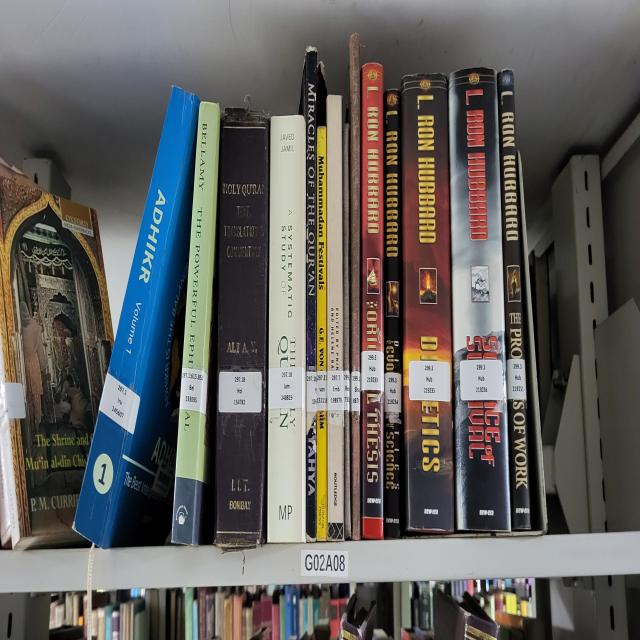Book: (74, 87, 199, 549), (449, 68, 511, 533), (214, 108, 270, 547), (401, 73, 454, 533), (171, 103, 220, 544), (268, 116, 305, 544), (498, 70, 530, 530), (361, 62, 384, 538), (300, 46, 318, 541), (384, 89, 402, 538), (326, 95, 344, 541), (349, 32, 361, 541), (316, 127, 328, 541), (342, 124, 351, 538)
Label: (99, 373, 140, 433), (219, 371, 261, 414), (409, 360, 451, 403), (460, 360, 505, 400), (269, 368, 302, 409), (180, 368, 208, 414), (361, 349, 384, 392), (506, 357, 526, 400), (385, 373, 401, 414), (328, 371, 344, 411), (316, 371, 328, 411), (350, 371, 360, 414), (306, 371, 316, 411), (344, 371, 350, 411)
